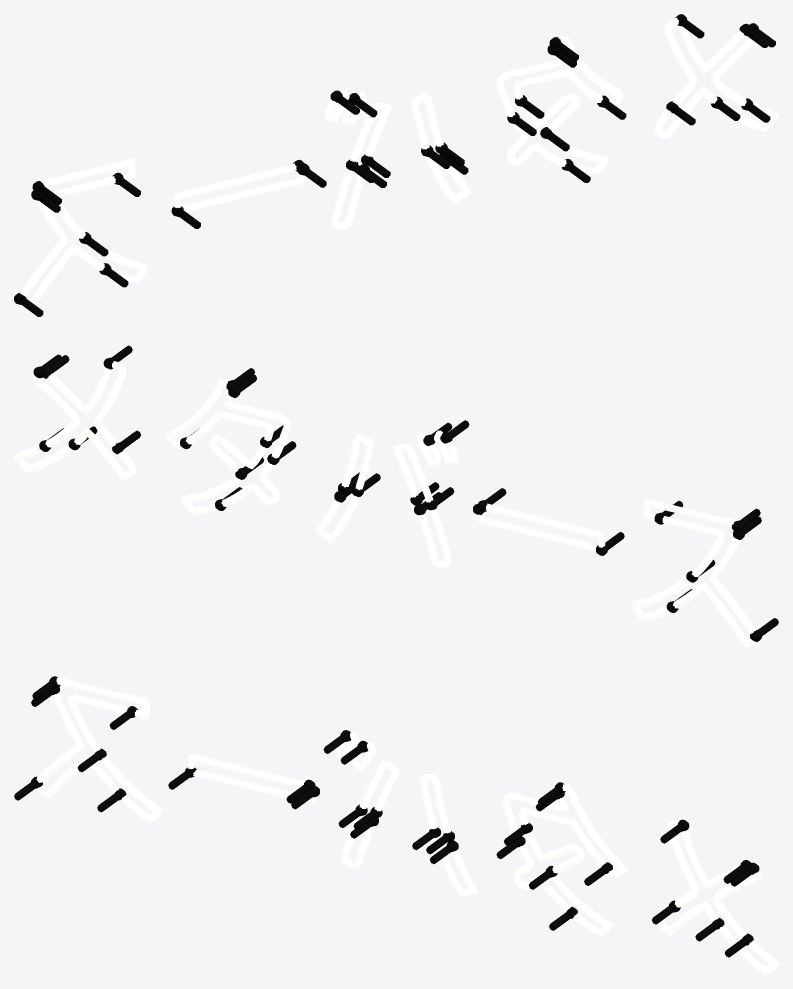
Rendered from neon_metaba-su.fbx.
The picture shows the model from 3 angles, top to bottom: view 1: azimuth 30°, elevation 25°; view 2: azimuth 150°, elevation 25°; view 3: azimuth 330°, elevation 25°; orthographic projection. The views are drawn at different scales.
Visible parts, largest first — view 1: NeonEnglish; view 2: NeonEnglish; view 3: NeonEnglish.
Boxes of the visible parts, left/top/right/bottom form: NeonEnglish: left=14, top=14, right=778, bottom=316; NeonEnglish: left=14, top=345, right=778, bottom=647; NeonEnglish: left=14, top=676, right=778, bottom=974.
Size of the model in its own units: 413 by 75.97 by 21.29.
